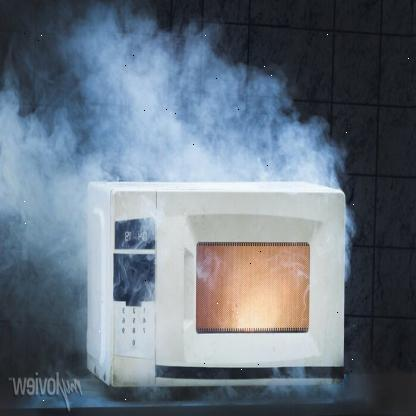smoke: (0, 7, 359, 328)
